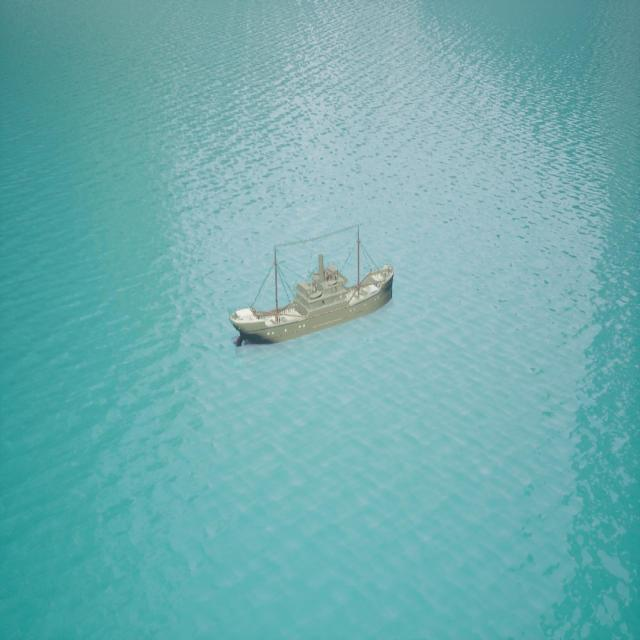fishing ship: (232, 238, 395, 348)
